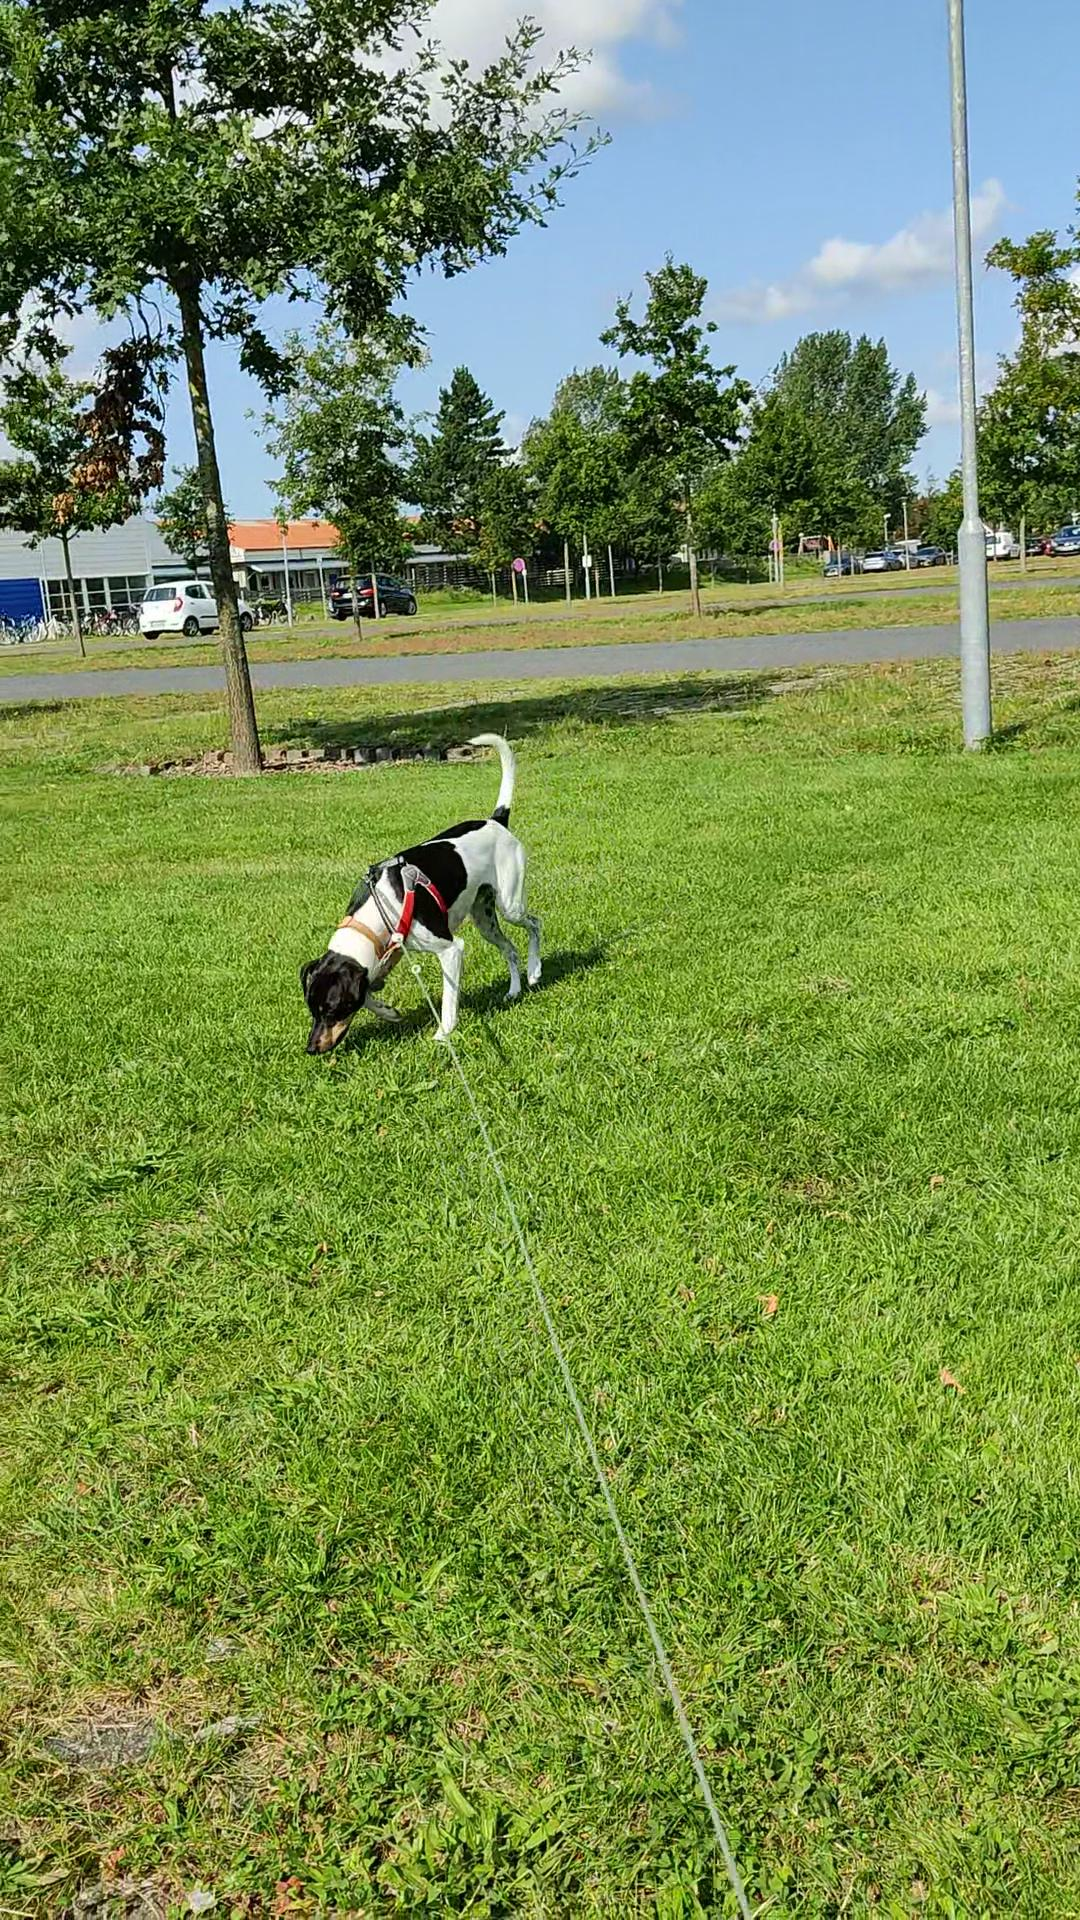Dog: (295, 731, 545, 1067)
